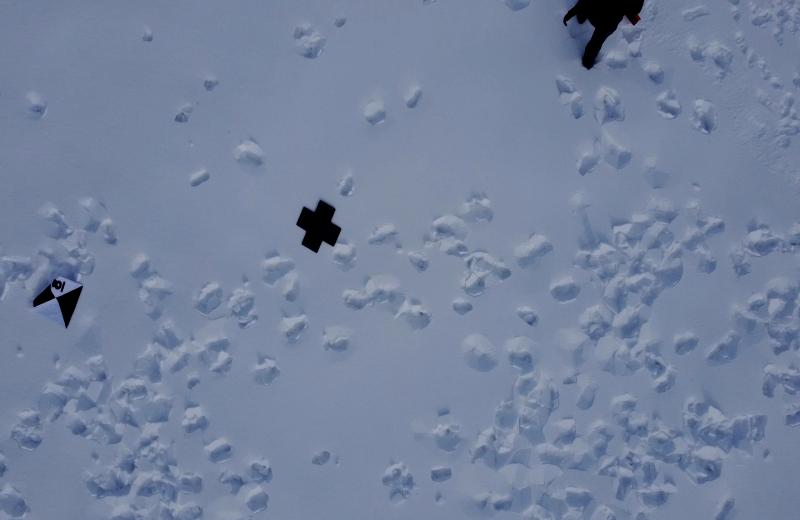Cross: (297, 198, 342, 252)
